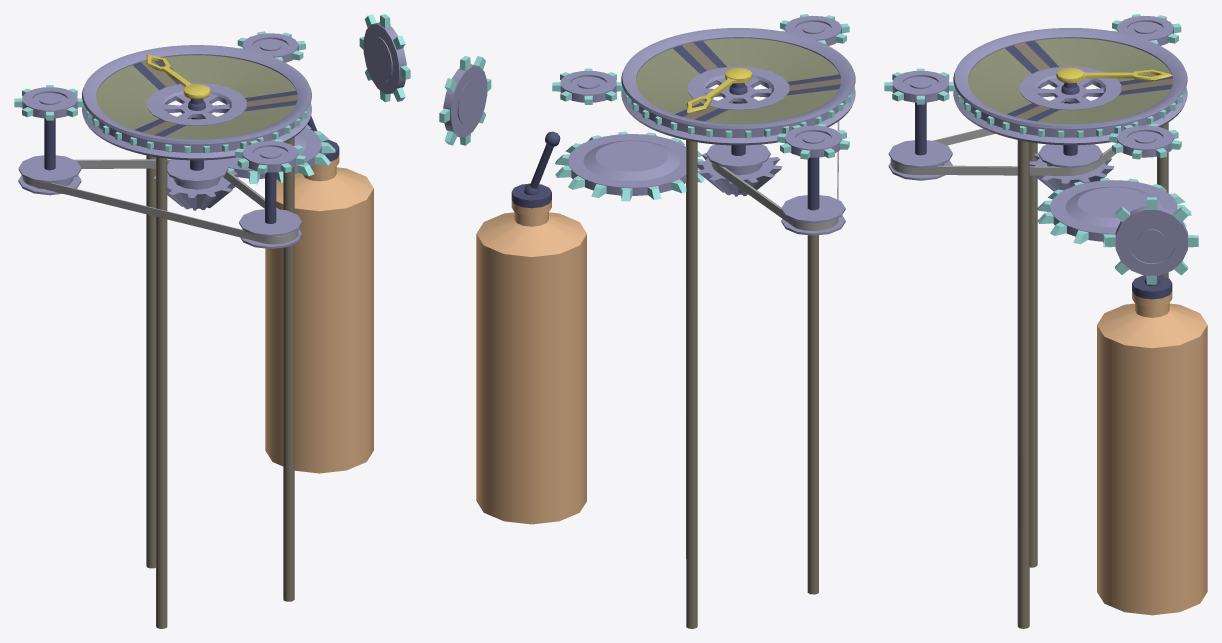
File: steam_clock_map.fbx
3 views of the same model, side by side, from view 1: azimuth 30°, elevation 25°; view 2: azimuth 150°, elevation 25°; view 3: azimuth 270°, elevation 25° (orthographic).
Parts seen in each view (by area): view 1: Engine, Outer Ring Gear, Wheel Belt, Pipe 2, Pipe 1, Pipe 3, Cube, Gear 3.001, Center Gear, Gear 1, Gear 2.001, Gear 4.001 (+10 smaller); view 2: Engine, Outer Ring Gear, Wheel Belt, Gear 4.001, Pipe 3, Pipe 2, Gear 3.001, Center Gear, Gear 2.001, Gear 2, GearT2 2, Gear 1 (+9 smaller); view 3: Engine, Outer Ring Gear, Wheel Belt, Pipe 1, Gear 4.001, Gear 3.001, Pipe 2, Center Gear, Cube, Gear 2, Gear 1, GearT2 2.001 (+10 smaller).
Boxes of the visible parts, x1,y1,x2,y2 form: Engine: (265,155,373,473); Outer Ring Gear: (82,45,311,160); Wheel Belt: (96,55,295,139); Pipe 2: (156,157,167,628); Pipe 1: (283,137,294,601); Pipe 3: (146,155,155,568); Cube: (22,159,298,244); Gear 3.001: (359,14,410,102); Center Gear: (147,83,246,125); Gear 1: (235,139,305,174); Gear 2.001: (14,85,83,120); Gear 4.001: (220,124,335,184); Engine: (476,200,586,524); Outer Ring Gear: (621,28,855,145); Wheel Belt: (636,38,839,123); Gear 4.001: (555,131,704,201); Pipe 3: (686,140,697,628); Pipe 2: (807,235,818,594); Gear 3.001: (439,56,491,145); Center Gear: (688,66,789,110); Gear 2.001: (777,123,849,159); Gear 2: (552,68,622,104); GearT2 2: (781,195,845,235); Gear 1: (780,14,849,45); Engine: (1097,291,1207,615); Outer Ring Gear: (953,28,1187,145); Wheel Belt: (968,38,1171,123); Pipe 1: (1017,140,1029,628); Gear 4.001: (1037,178,1191,247); Gear 3.001: (1105,197,1198,284); Pipe 2: (1029,142,1037,567); Center Gear: (1020,66,1121,110); Cube: (890,128,1116,175); Gear 2: (1109,123,1181,159); Gear 1: (884,68,954,104); GearT2 2.001: (888,140,952,180).
Size of the model in its own units: 3215 by 4210 by 2370.
